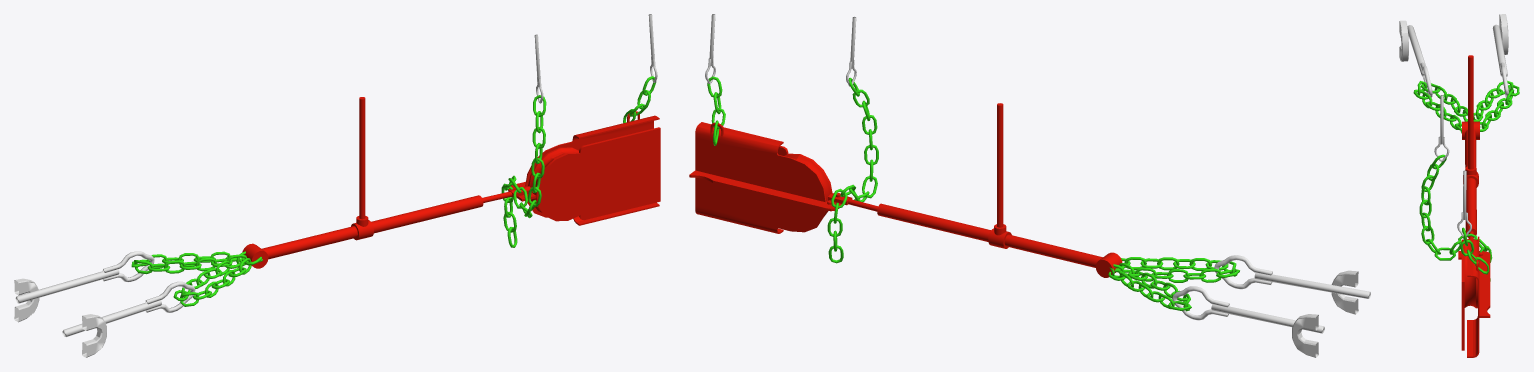
File: Mono winch texture Master.fbx
3 views of the same model, side by side, from view 1: azimuth 30°, elevation 25°; view 2: azimuth 150°, elevation 25°; view 3: azimuth 270°, elevation 25° (orthographic). The views are drawn at different scales.
Visible parts, largest first — view 1: Cylinder.018, Chain Links.005, Mono Winch Ropes.001, Chain Links.006, Mono Winch Ropes.009, Chain Links.008, Mono Winch Ropes.008; view 2: Cylinder.018, Chain Links.005, Chain Links.006, Mono Winch Ropes.001, Mono Winch Ropes.008, Chain Links.008, Mono Winch Ropes.009; view 3: Cylinder.018, Chain Links.005, Chain Links.006, Chain Links.008, Mono Winch Ropes.001, Mono Winch Ropes.008, Mono Winch Ropes.009, Chain Links.009, Mono Winch Ropes.005, Mono Winch Ropes.007.
Boxes of the visible parts, x1,y1,x2,y2 form: Cylinder.018: (242,97,660,268); Chain Links.005: (501,95,546,247); Mono Winch Ropes.001: (14,278,106,357); Chain Links.006: (173,251,261,306); Mono Winch Ropes.009: (15,251,154,303); Chain Links.008: (131,251,262,274); Mono Winch Ropes.008: (62,281,195,336); Cylinder.018: (689,103,1122,277); Chain Links.005: (827,77,878,263); Chain Links.006: (1113,257,1239,282); Mono Winch Ropes.001: (1292,270,1358,357); Mono Winch Ropes.008: (1214,255,1370,298); Chain Links.008: (1108,263,1191,311); Mono Winch Ropes.009: (1172,286,1324,333); Cylinder.018: (1458,55,1490,357); Chain Links.005: (1419,154,1492,281); Chain Links.006: (1413,81,1477,130); Chain Links.008: (1460,81,1519,133); Mono Winch Ropes.001: (1399,14,1508,61); Mono Winch Ropes.008: (1407,25,1432,97); Mono Winch Ropes.009: (1492,24,1508,97); Chain Links.009: (1460,227,1489,274); Mono Winch Ropes.005: (1434,95,1449,161); Mono Winch Ropes.007: (1457,170,1471,236).
Bounding box in the file's own units: 101 × 34.81 × 17.91.
